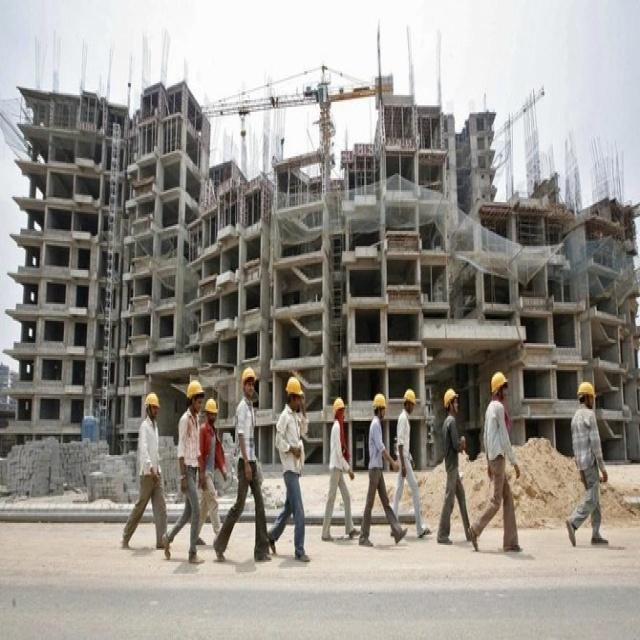helmet: (491, 496, 509, 544), (187, 505, 204, 555), (286, 503, 301, 545), (578, 509, 594, 548), (240, 492, 255, 531), (146, 524, 159, 563), (205, 525, 217, 567), (444, 518, 458, 554), (403, 518, 415, 554), (373, 527, 386, 560), (333, 530, 345, 562)
